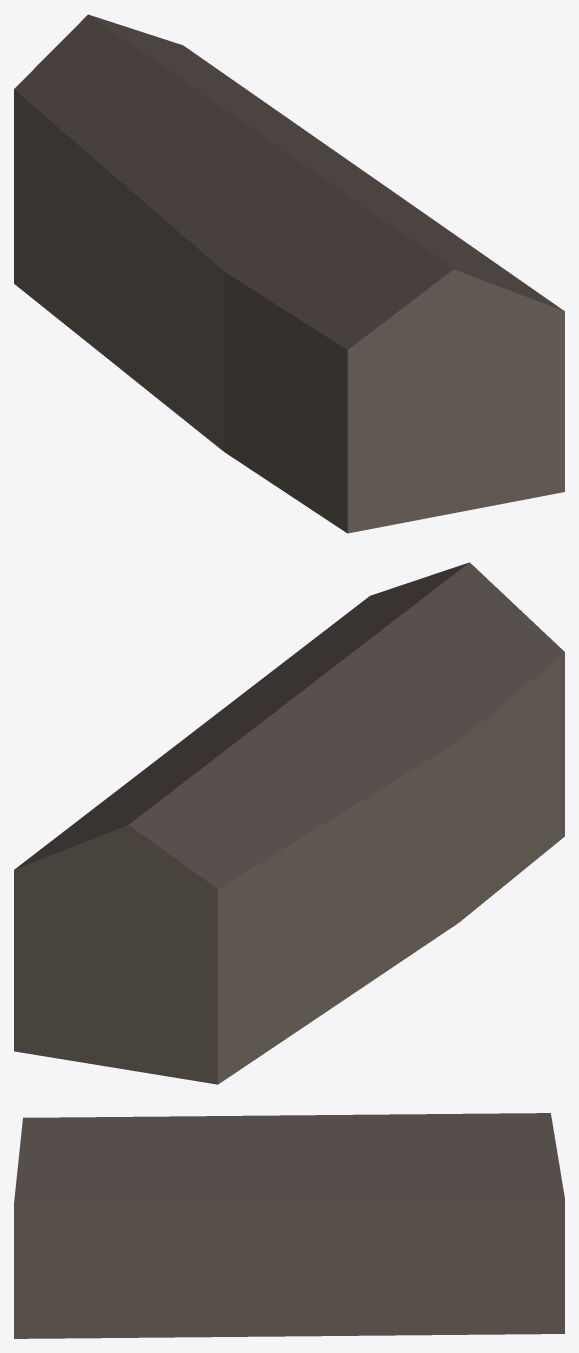
3 renders of one model, top to bottom at view 1: azimuth 30°, elevation 25°; view 2: azimuth 150°, elevation 25°; view 3: azimuth 270°, elevation 25°, orthographic. The views are drawn at different scales.
Parts seen in each view (by area): view 1: HP-w1512965878; view 2: HP-w1512965878; view 3: HP-w1512965878.
Boxes of the visible parts, box(x1,y1,x2,y2) form: HP-w1512965878: box(14, 14, 564, 533); HP-w1512965878: box(14, 562, 564, 1084); HP-w1512965878: box(14, 1113, 564, 1338).
Size of the model in its own units: 11.2 by 12.16 by 33.24.
